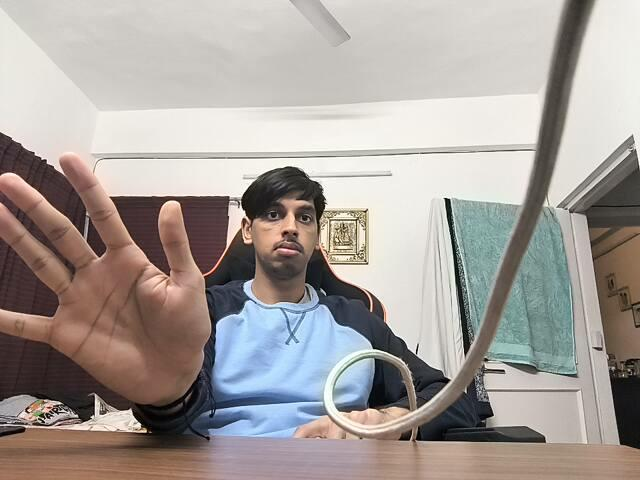STOP: (2, 122, 221, 416)
